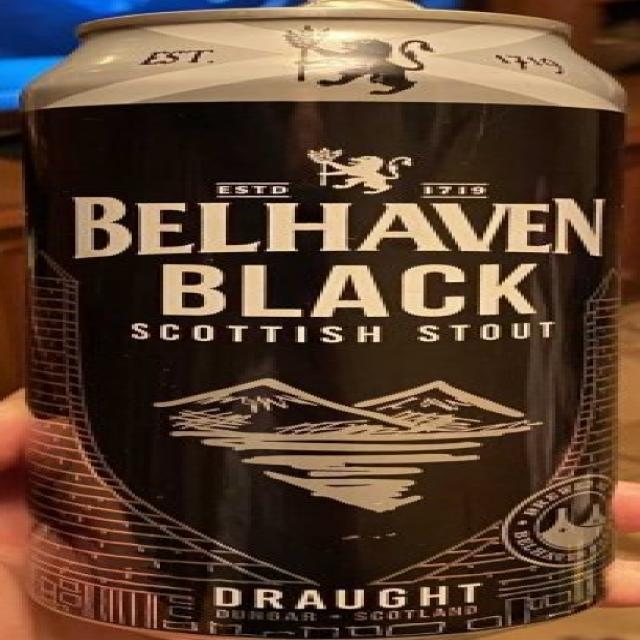Belhaven Black Scottish Stout: (3, 0, 640, 640)
